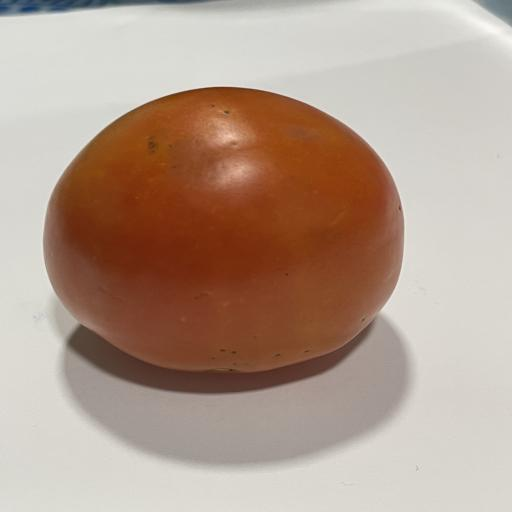unripe: (44, 87, 403, 373)
